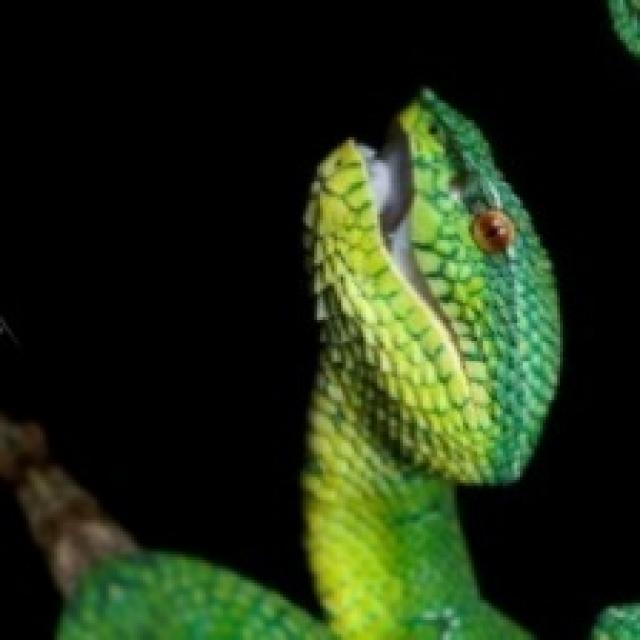north ph temple pitviper: (57, 89, 557, 637)
